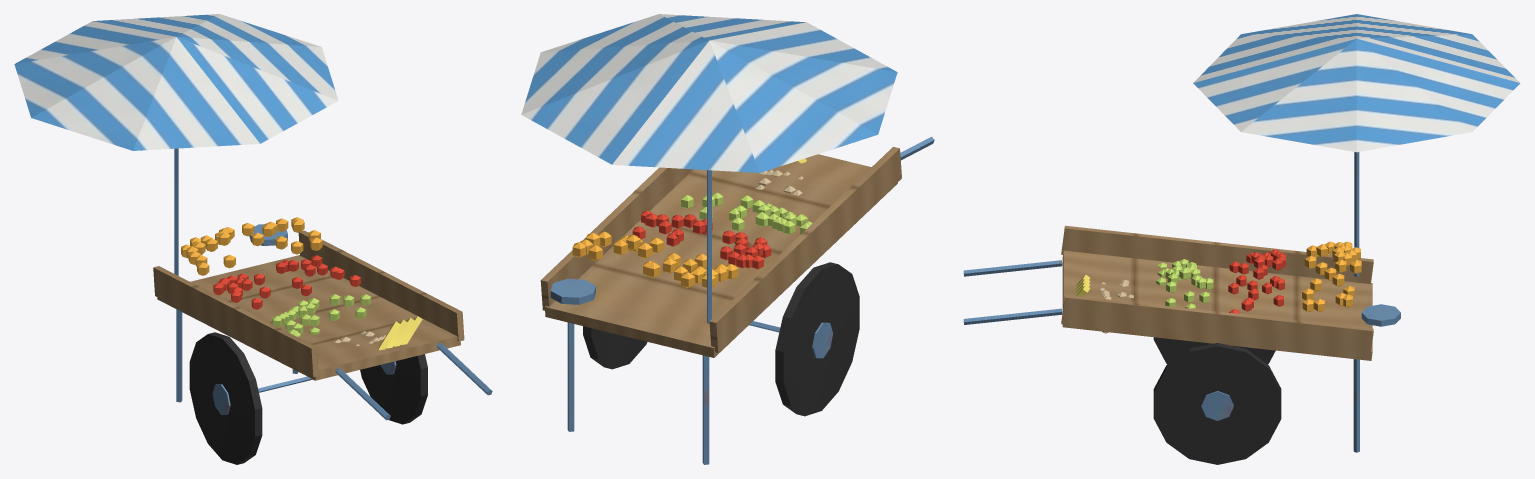
Rendered from fruit-veg-cart.glb.
The picture shows the model from 3 angles, left to right: view 1: azimuth 30°, elevation 25°; view 2: azimuth 150°, elevation 25°; view 3: azimuth 270°, elevation 25°; orthographic projection. The views are drawn at different scales.
Parts seen in each view (by area): view 1: veg_cart; view 2: veg_cart; view 3: veg_cart.
Boxes of the visible parts, x1,y1,x2,y2 form: veg_cart: [14, 14, 492, 464]; veg_cart: [521, 14, 934, 464]; veg_cart: [963, 14, 1520, 464].
Bounding box in the file's own units: 2.02 × 2.4 × 3.4.
Materials: 1 (1 with a texture image).
